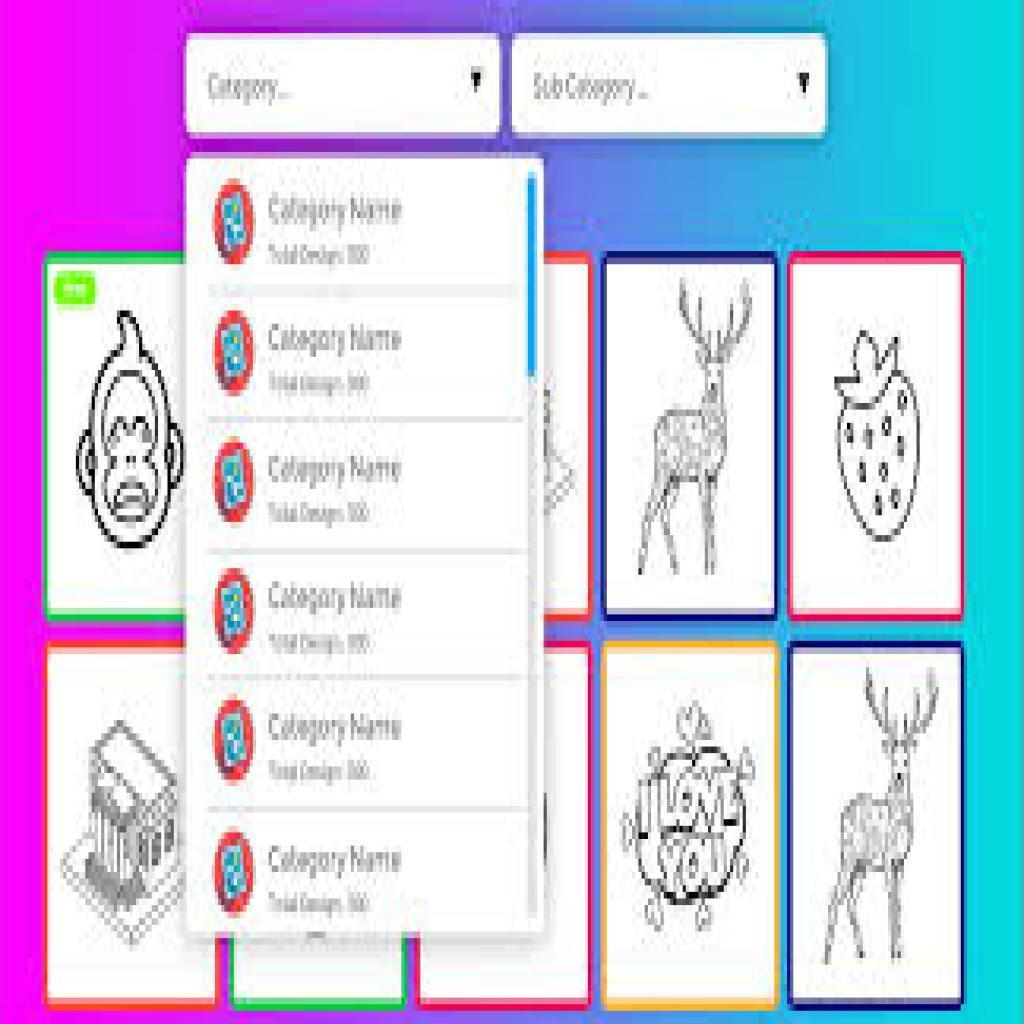dropdown: (185, 33, 504, 138), (512, 36, 829, 139)
